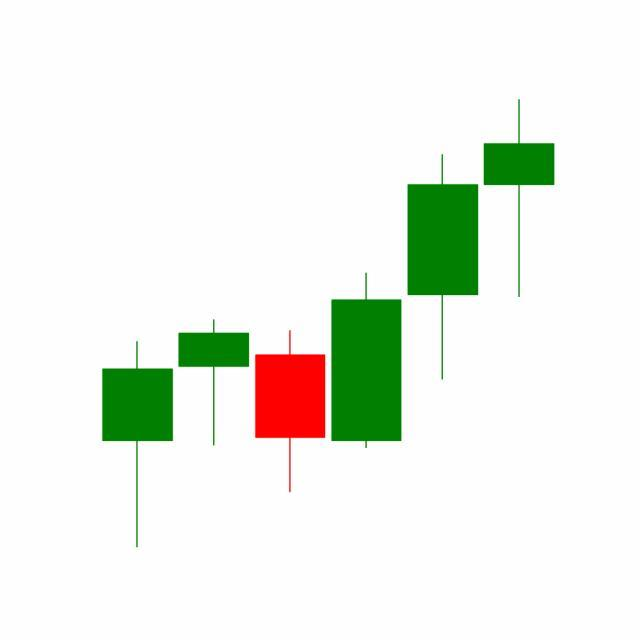Three Outside Up-Down: (252, 151, 482, 497)
